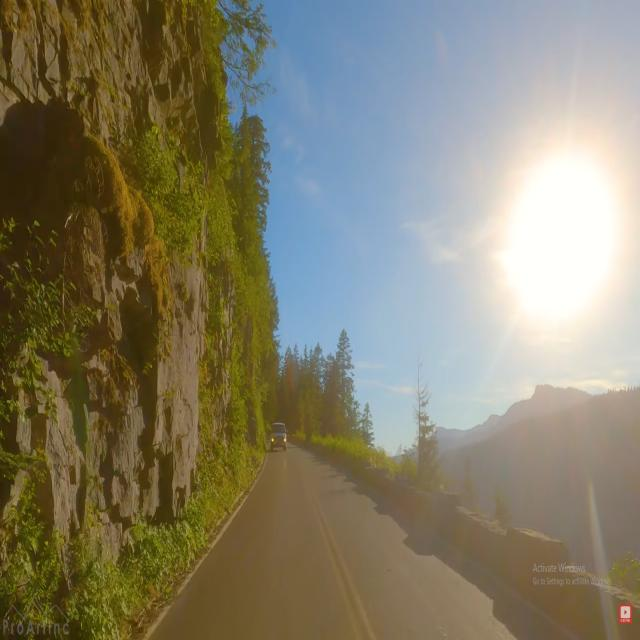sun: (468, 112, 640, 374)
